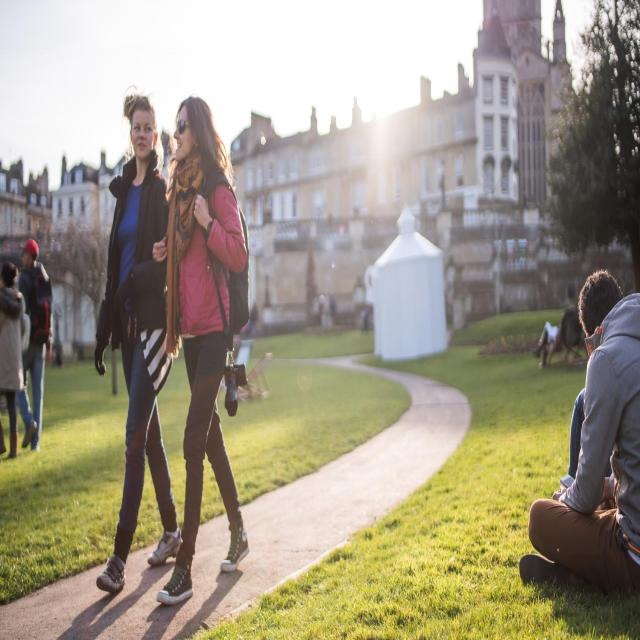Person: (154, 96, 250, 600), (95, 89, 184, 589), (527, 270, 640, 599), (14, 242, 52, 452), (0, 260, 26, 459)
